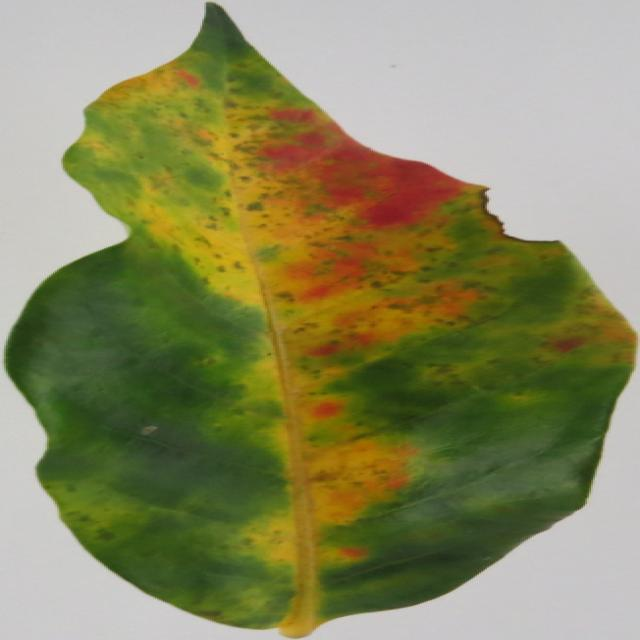DeficienciaNutricional-Fosforo: (8, 4, 633, 637)
